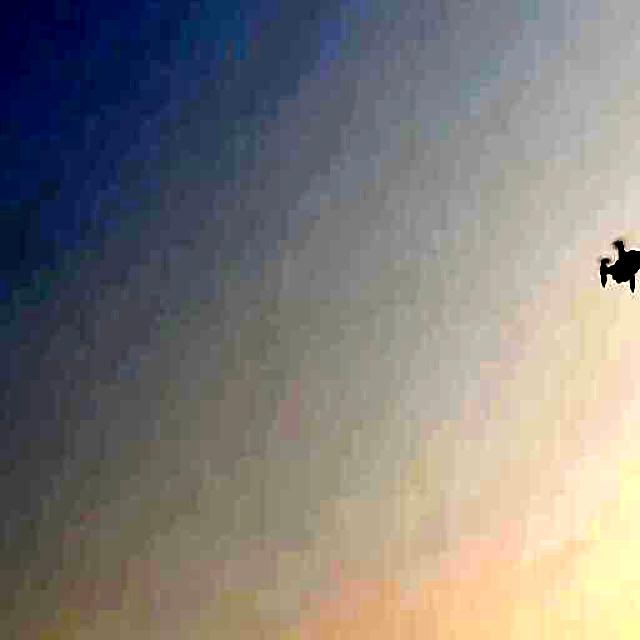bird: (585, 222, 640, 310)
